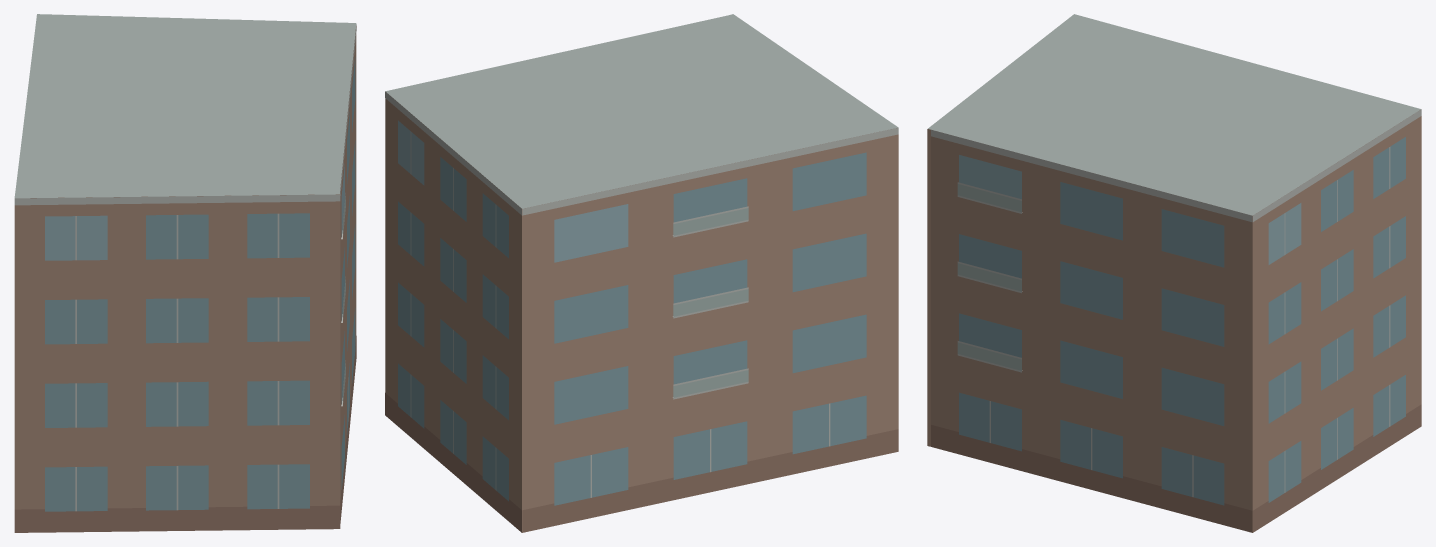
Rendered from survey-upis-32620026.glb.
3 renders of one model, left to right at view 1: azimuth 30°, elevation 25°; view 2: azimuth 150°, elevation 25°; view 3: azimuth 270°, elevation 25°, orthographic. The views are drawn at different scales.
Parts seen in each view (by area): view 1: survey-upis-32620026.tmp; view 2: survey-upis-32620026.tmp; view 3: survey-upis-32620026.tmp.
Boxes of the visible parts, x1=… form: survey-upis-32620026.tmp: x1=14, y1=14, x2=356, y2=532; survey-upis-32620026.tmp: x1=385, y1=14, x2=898, y2=532; survey-upis-32620026.tmp: x1=927, y1=14, x2=1421, y2=532.
Size of the model in its own units: 15.83 by 11.6 by 16.39.
